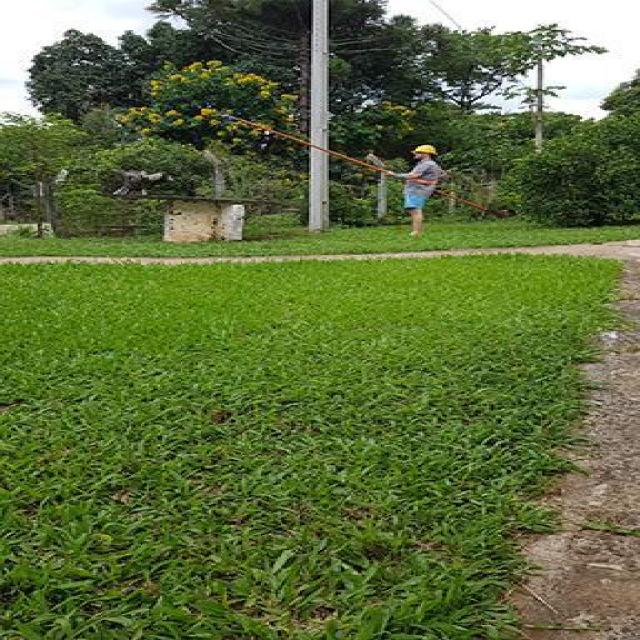hat: (411, 144, 438, 159)
